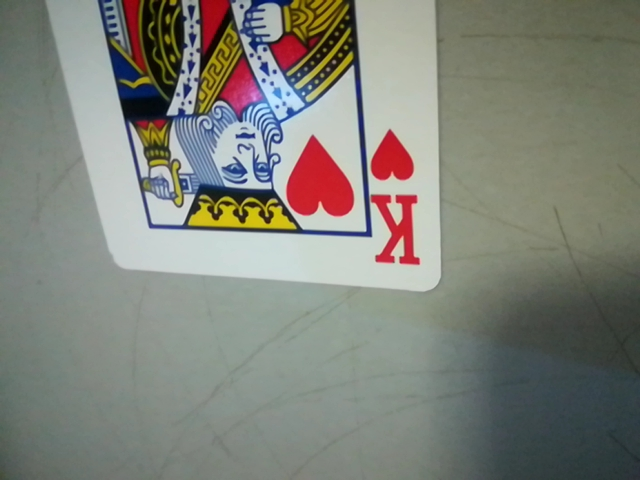hx k: (362, 121, 435, 278)
